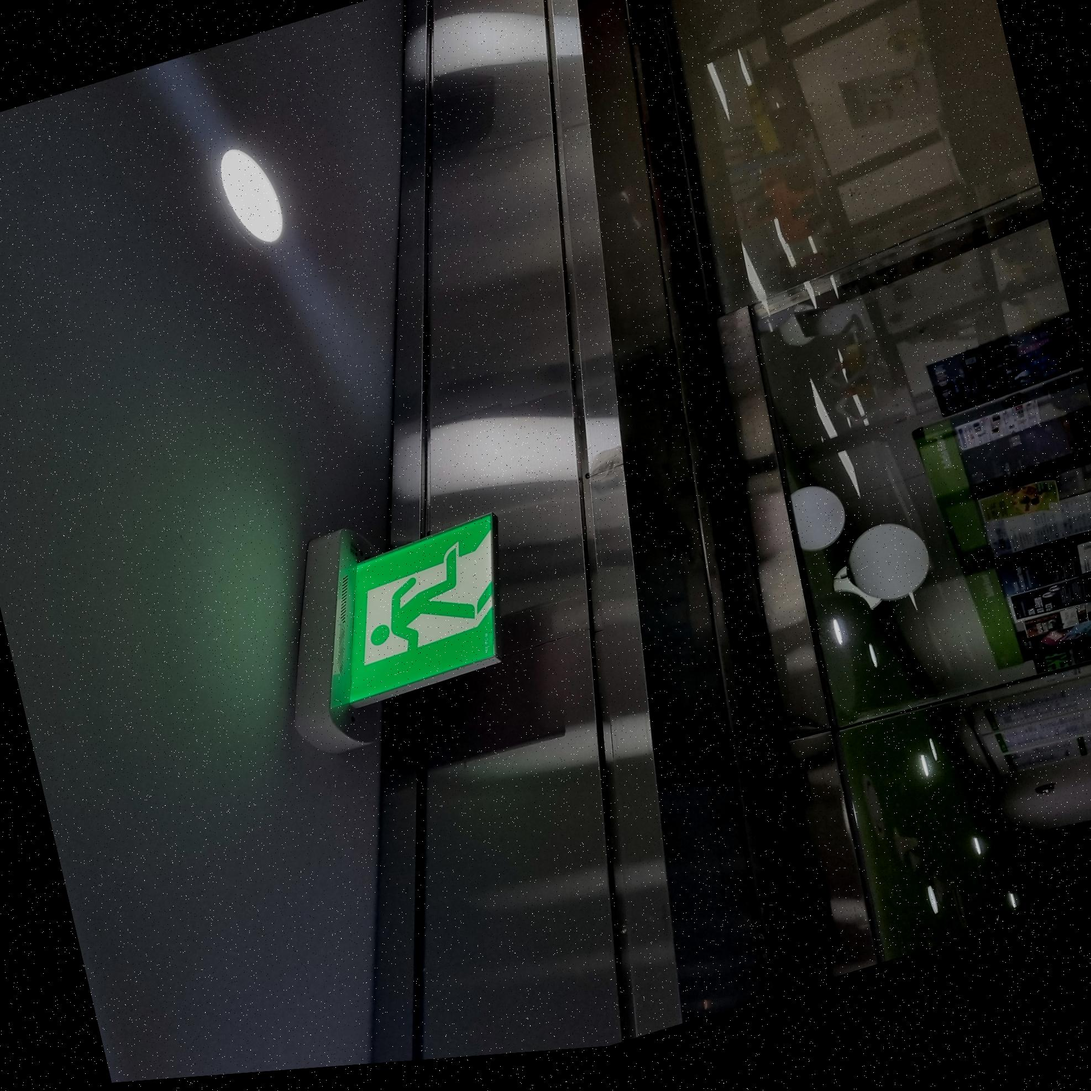emergency_exit: (328, 511, 502, 713)
